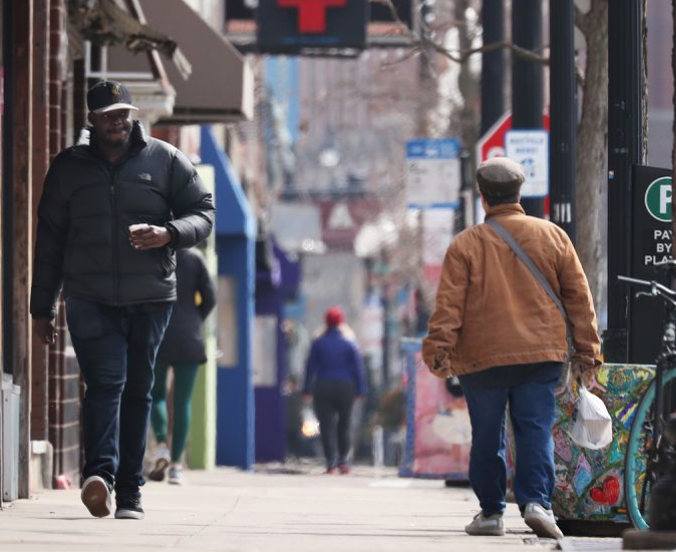Good: (27, 78, 607, 519), (27, 80, 398, 519)
